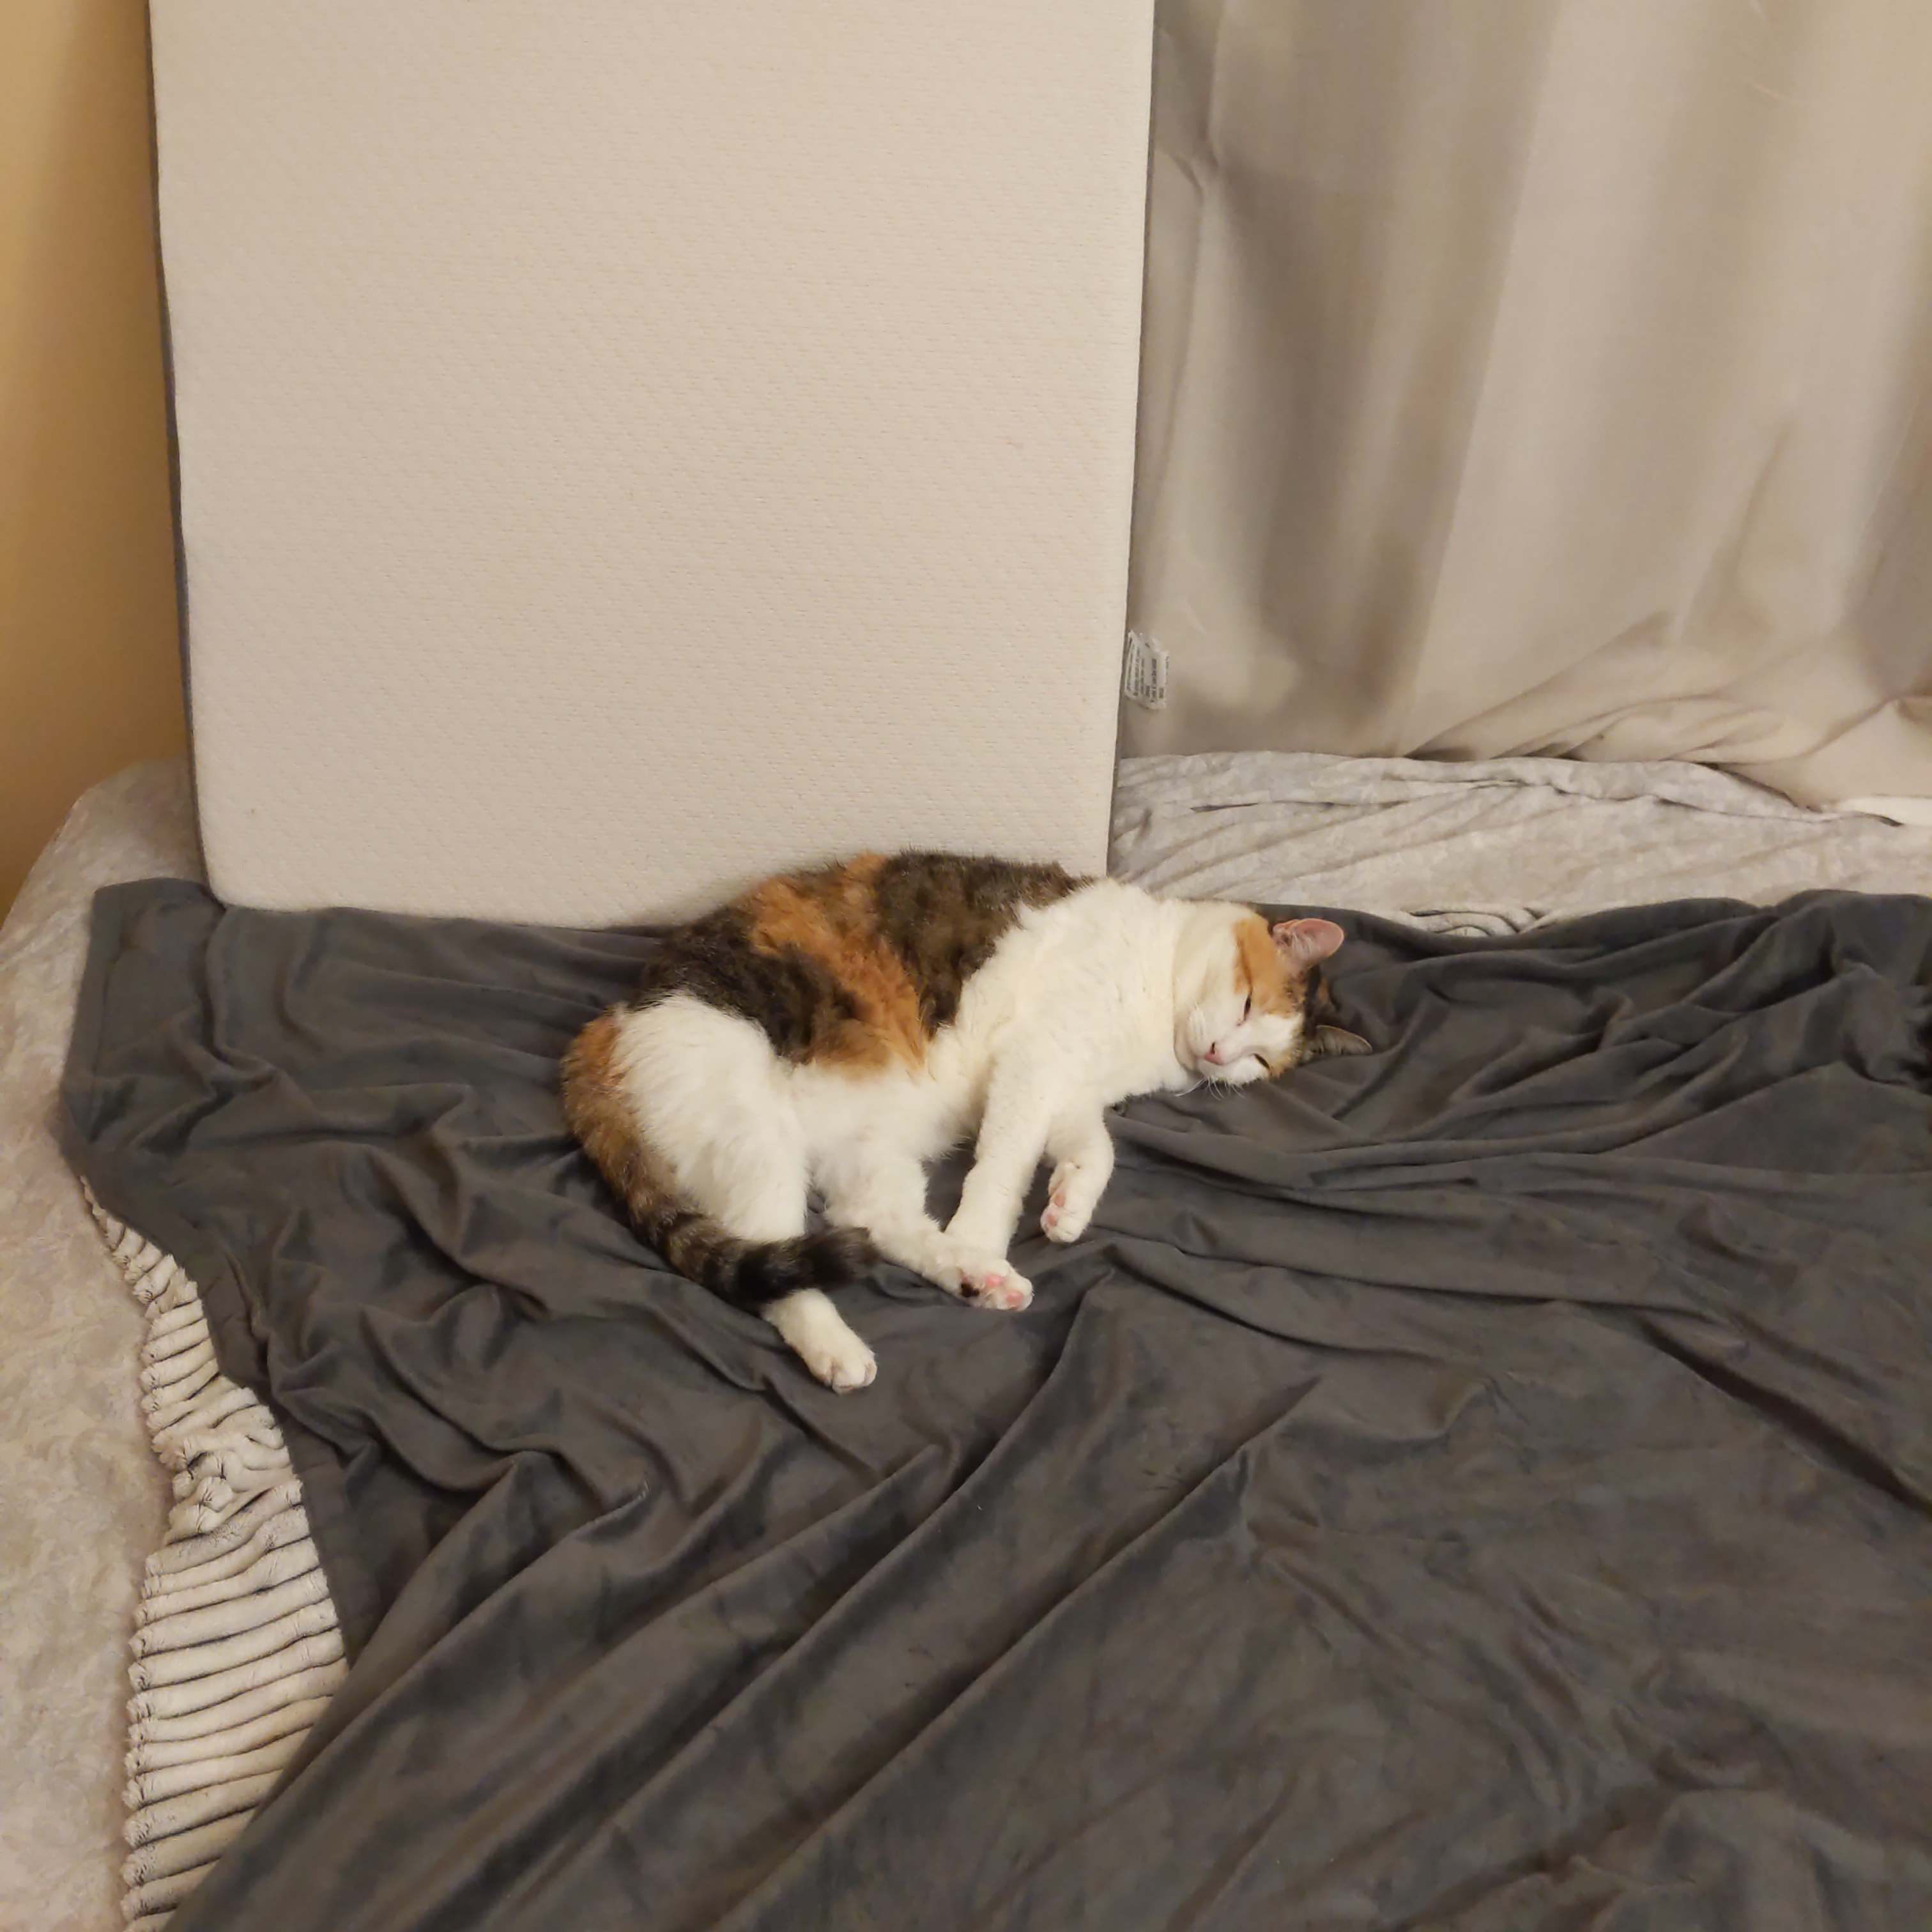Calico: (561, 851, 1375, 1394)
